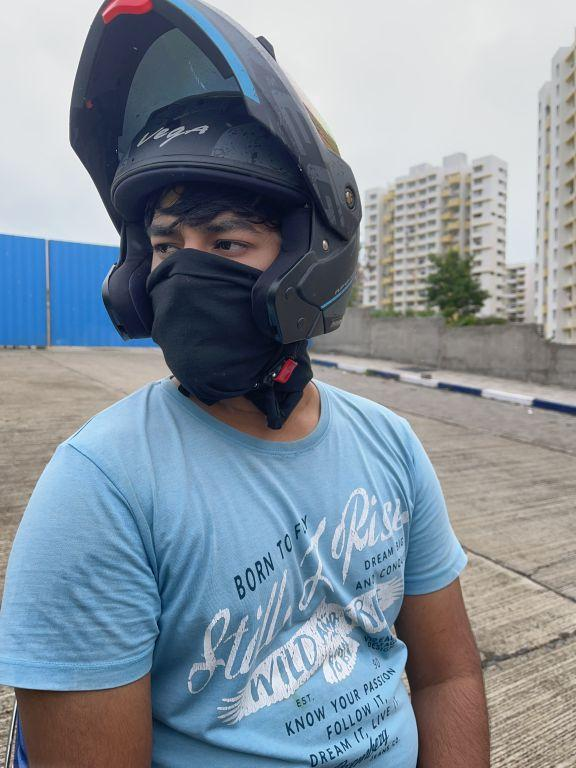helmet: (34, 0, 376, 402)
